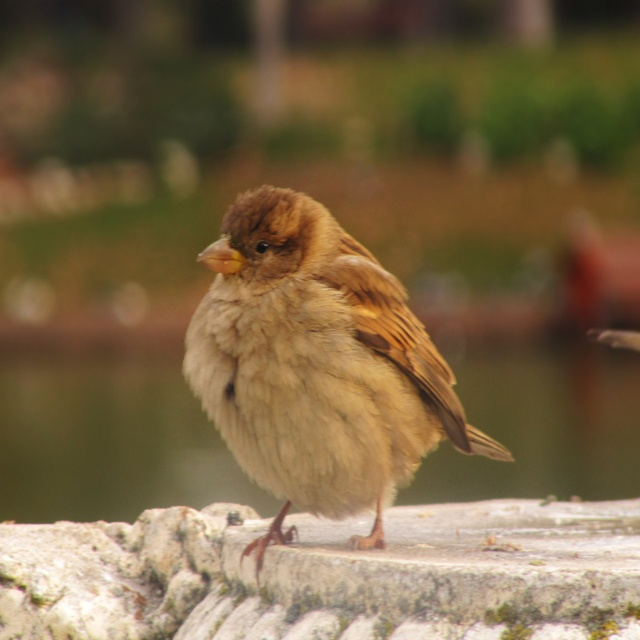Sparrow: (182, 185, 515, 587)
